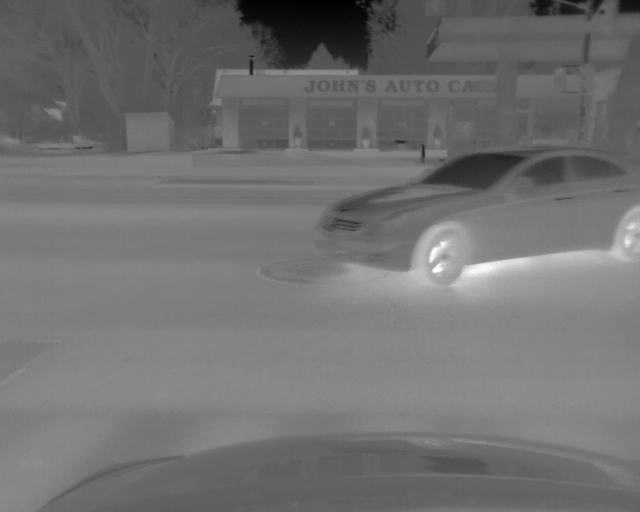car: (312, 148, 640, 289)
